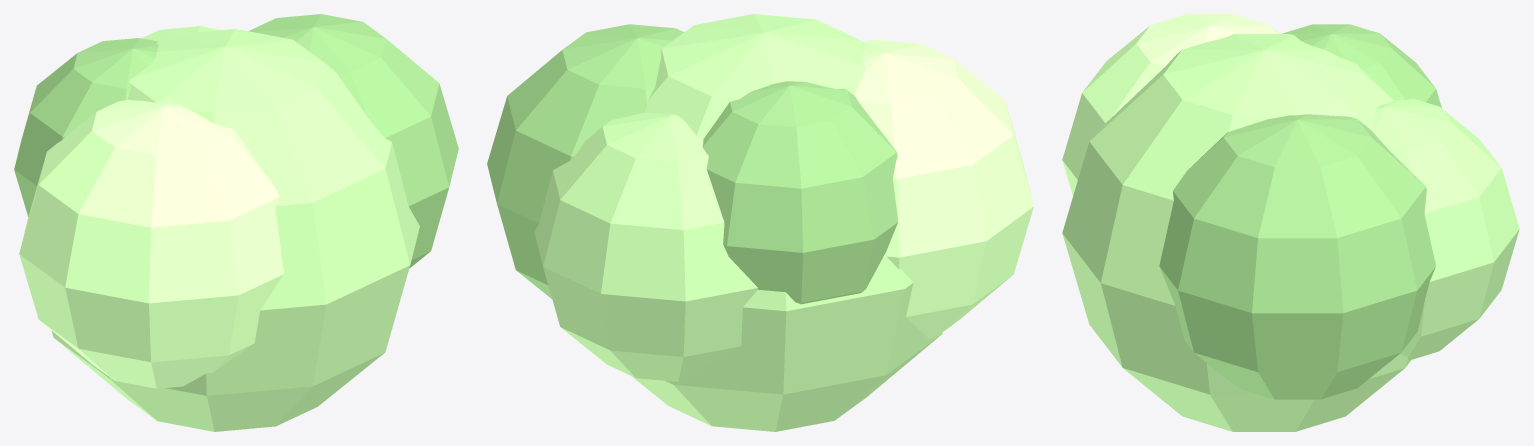
Rendered from bush.glb.
3 renders of one model, left to right at view 1: azimuth 30°, elevation 25°; view 2: azimuth 150°, elevation 25°; view 3: azimuth 270°, elevation 25°, orthographic. The views are drawn at different scales.
Parts seen in each view (by area): view 1: bush; view 2: bush; view 3: bush.
Boxes of the visible parts, <box> form: bush: <box>14,14,458,431</box>; bush: <box>487,14,1033,431</box>; bush: <box>1062,14,1519,431</box>.
Bounding box in the file's own units: 0.7485 × 0.6 × 0.68.
